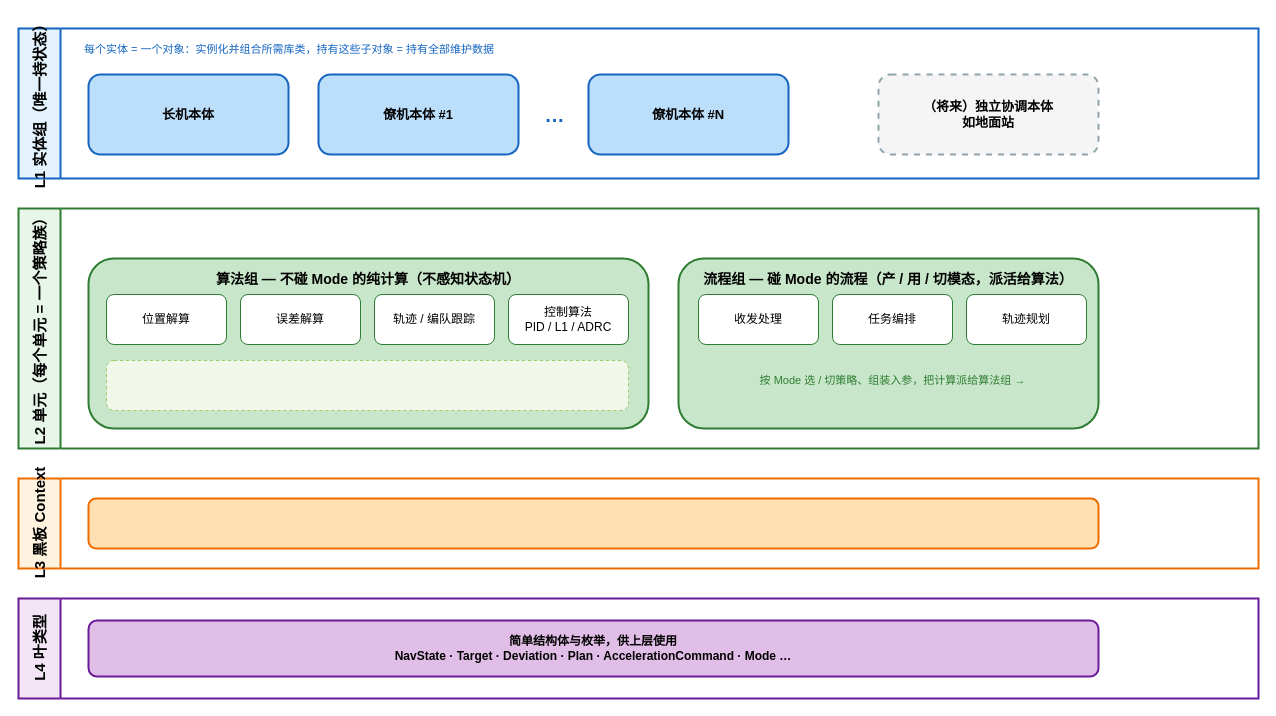
The diagram is 1276 pixels wide and 716 high, and some of its shapes have lost their labels. Here are the shapes that lost their labels. From the top down, the centre of each, then its label:
At (367,385): "通用数学（坐标变换 / 限幅 / 滤波）— 工具函数，非 step 单元".
At (593,523): "Context — 定义一次任务过程中需要的全部内容".
